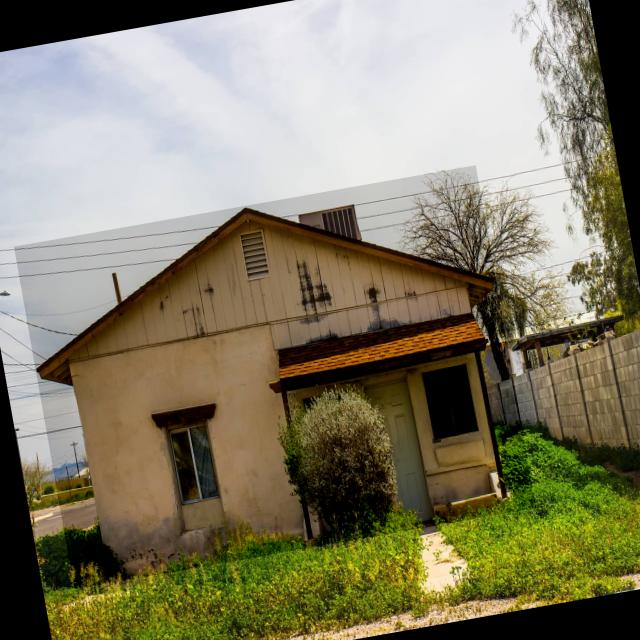House: (13, 164, 536, 588)
